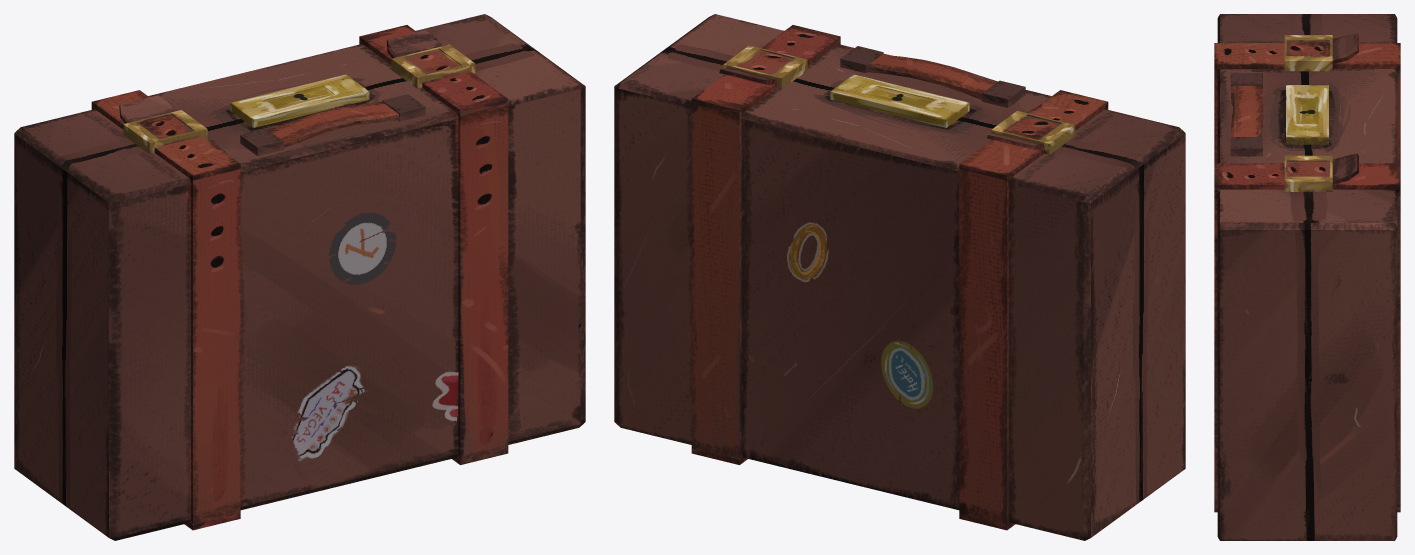
Rendered from suitcasetrain.fbx.
3 renders of one model, left to right at view 1: azimuth 30°, elevation 25°; view 2: azimuth 150°, elevation 25°; view 3: azimuth 270°, elevation 25°, orthographic. The views are drawn at different scales.
Parts seen in each view (by area): view 1: Cube; view 2: Cube; view 3: Cube.
Boxes of the visible parts, box(x1,y1,x2,y2) form: Cube: box(14, 14, 585, 540); Cube: box(614, 14, 1185, 540); Cube: box(1214, 14, 1400, 540).
Bounding box in the file's own units: 56.58 × 41.73 × 20.77.
